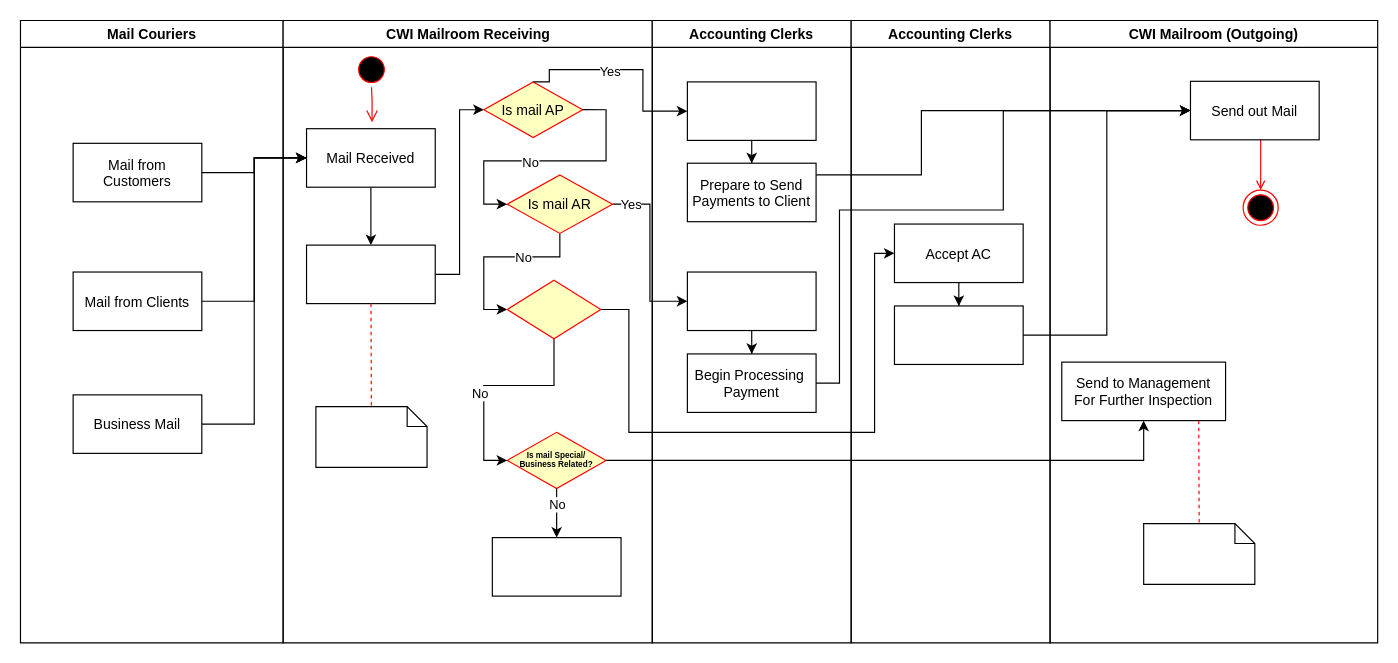
Image size: 1398x663. Some labels were removed from this diagram. Here are the shapes that lost their labels. From the top down, the centre of each, then its label:
At point 751,110: "Accept AP".
At point 370,274: "Begin Sorting Process".
At point 553,309: "Is mail AC".
At point 751,301: "Accept AR".
At point 958,334: "Prepare Invoices".
At point 371,436: "Critical Decision Tree".
At point 556,566: "Destroy Mail".
At point 1199,553: "Inspect and Report Information".
